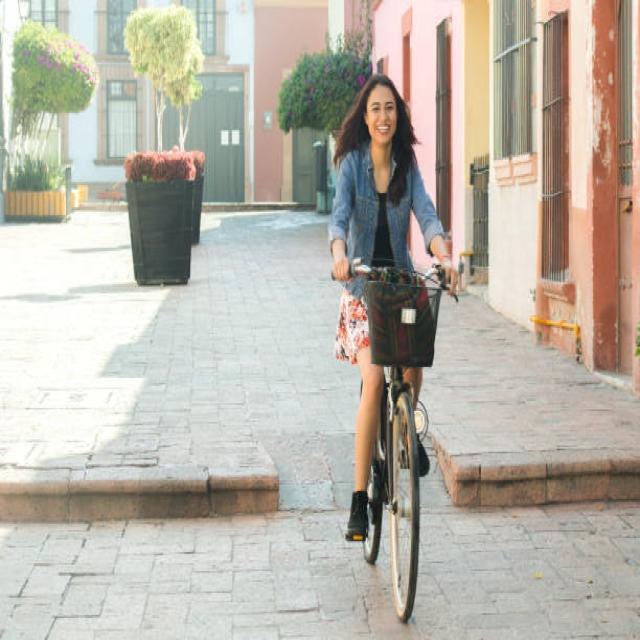bicycle: (329, 75, 458, 621)
